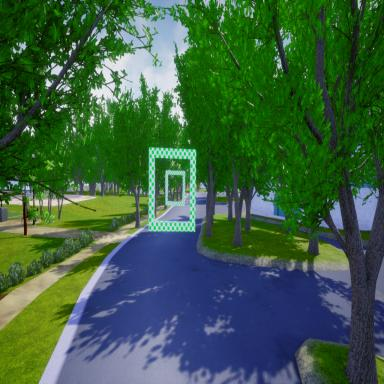gate: (148, 146, 196, 234), (165, 170, 186, 207)
